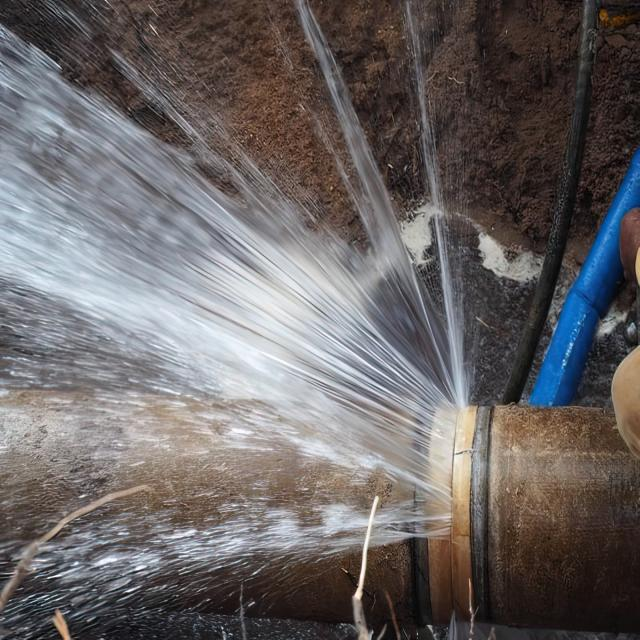leak: (0, 3, 468, 613)
